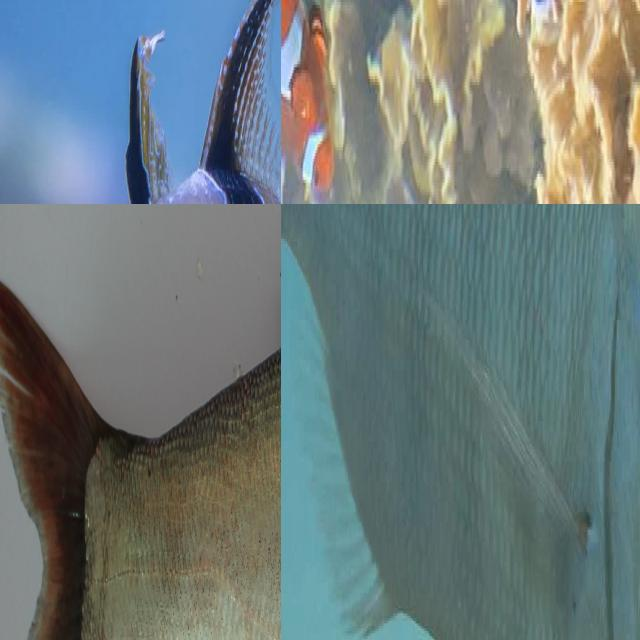fish: (281, 204, 640, 640), (0, 204, 281, 640), (0, 0, 281, 204), (281, 0, 333, 204)
